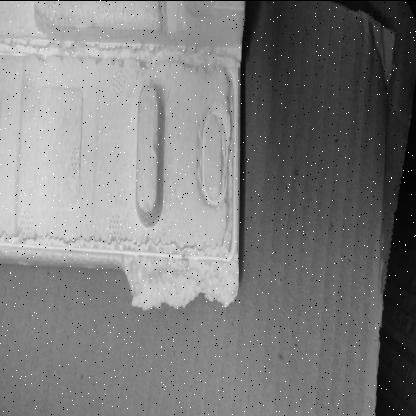foam: (0, 2, 244, 310)
